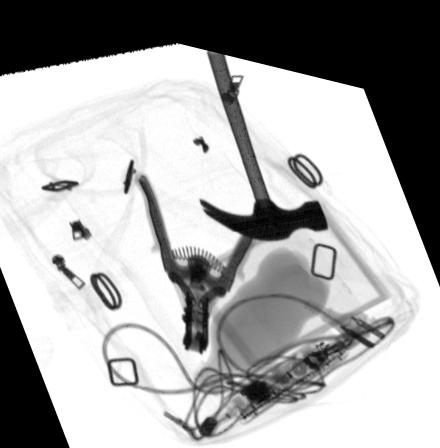Hammer: (199, 40, 328, 228)
Pliers: (134, 166, 260, 343)
